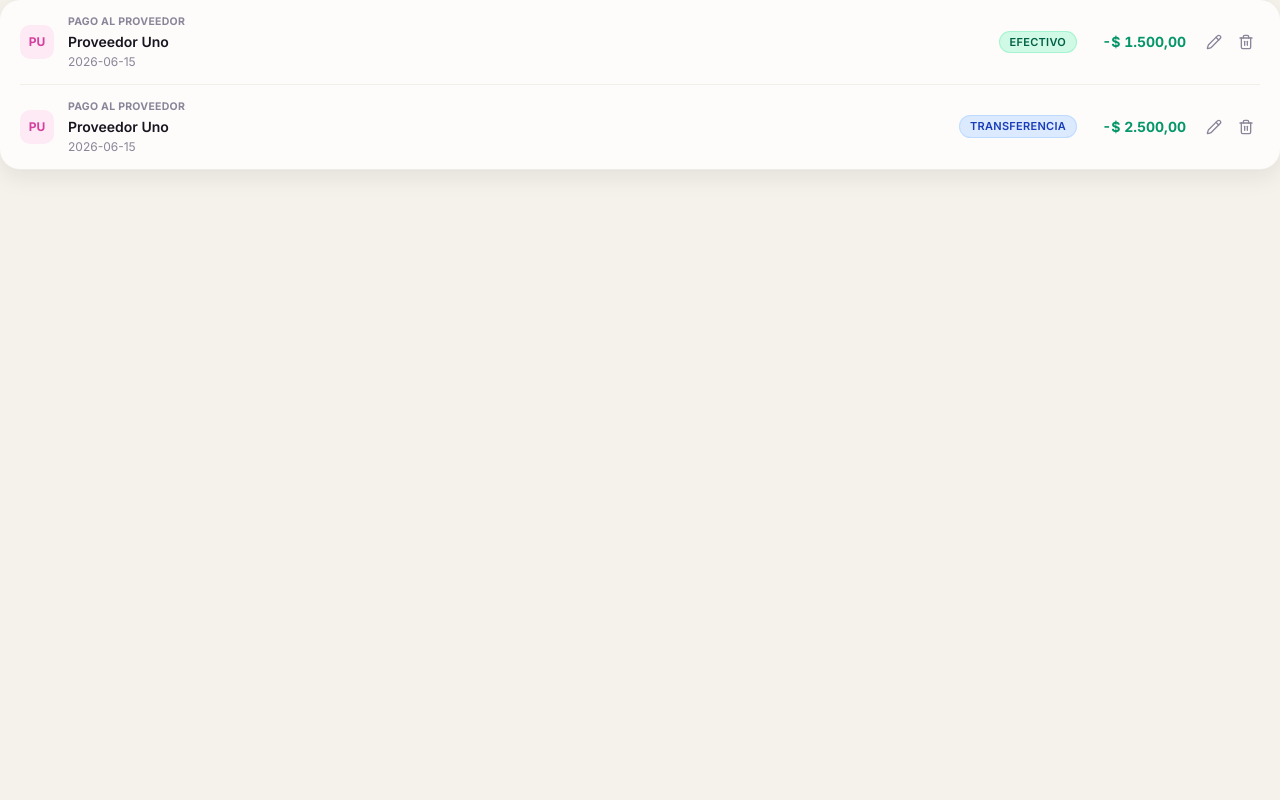
Test: PagosList — read-only detail dialog › opens the read-only detail when the row is activated
This screenshot has width=1280, height=800.
Expected: the text "EFECTIVO" is shown, [1000, 32, 1076, 52]
Click the button with aria-label "ver detalle del pago pago-1" at (37, 42), box [20, 14, 1186, 70]
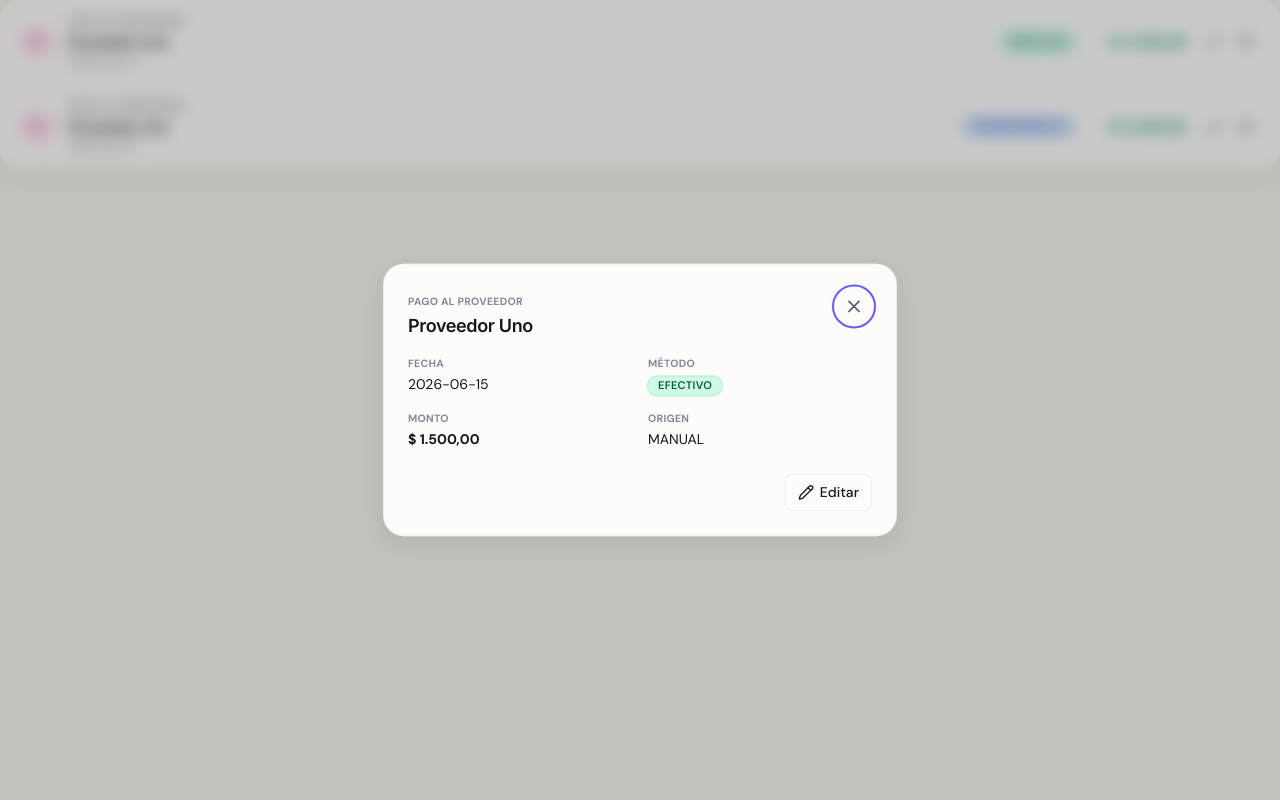
Now the dialog with test id "pago-detail-dialog" is shown, box [384, 264, 896, 536]
Now the dialog with test id "pago-detail-dialog" shows "2026-06-15", box [408, 375, 489, 393]
Now the dialog with test id "pago-detail-dialog" shows "EFECTIVO", box [658, 378, 712, 392]
